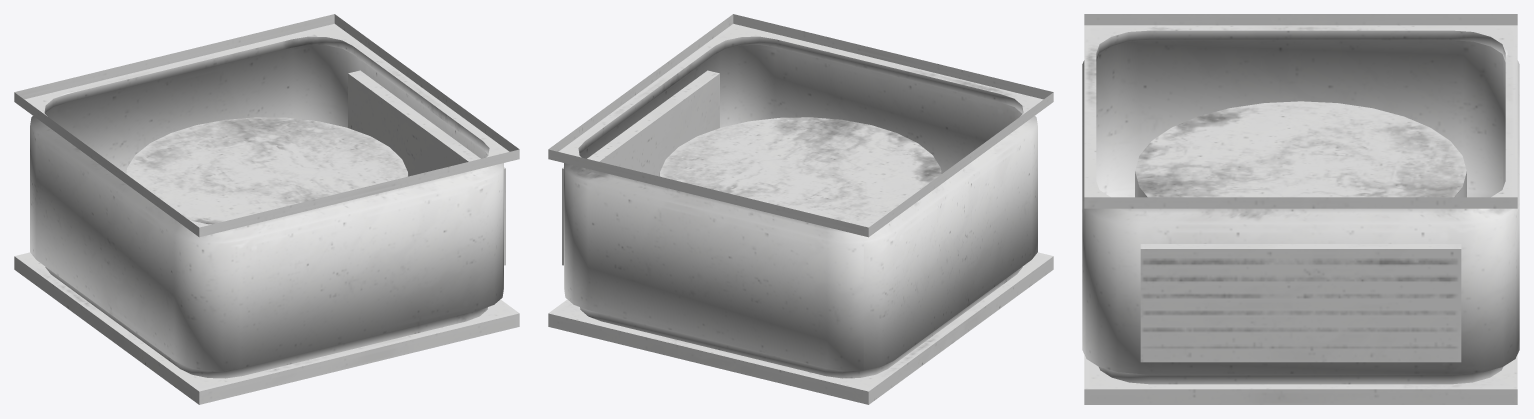
Rendered from SM_Vent1.fbx.
3 views of the same model, side by side, from view 1: azimuth 30°, elevation 25°; view 2: azimuth 150°, elevation 25°; view 3: azimuth 270°, elevation 25° (orthographic). The views are drawn at different scales.
Visible parts, largest first — view 1: SM_Vent1_LOD0; view 2: SM_Vent1_LOD0; view 3: SM_Vent1_LOD0.
Boxes of the visible parts, x1,y1,x2,y2 form: SM_Vent1_LOD0: [14, 14, 519, 404]; SM_Vent1_LOD0: [548, 14, 1053, 404]; SM_Vent1_LOD0: [1082, 14, 1519, 404].
Size of the model in its own units: 110 by 107 by 56.17.
